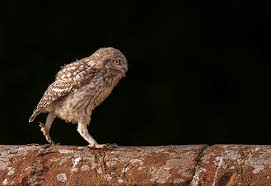Walking: (25, 26, 131, 154)
